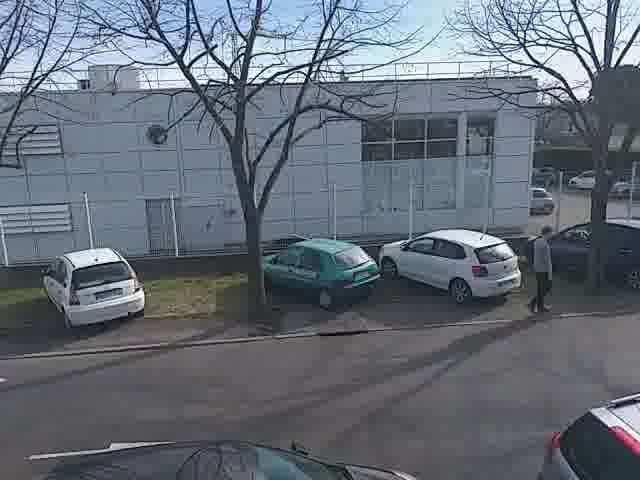persona: (517, 223, 564, 315)
